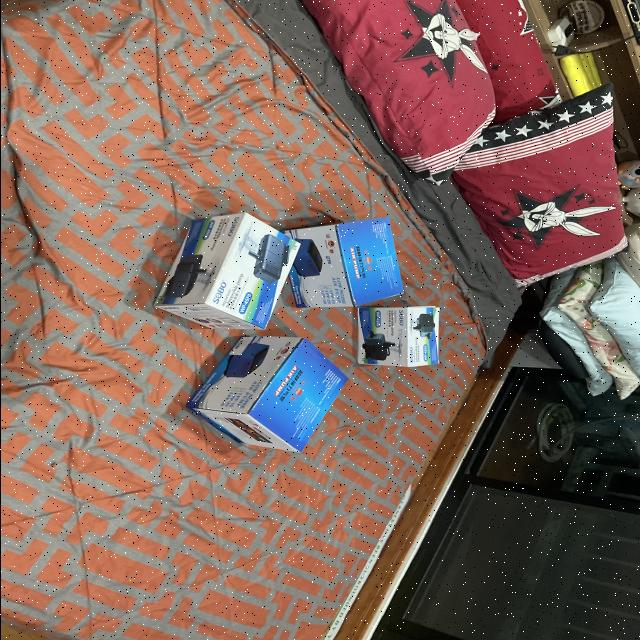SOBO_WP_4200: (146, 204, 304, 342), (346, 300, 448, 378)
YAMANO_LPP_20: (169, 330, 353, 462), (282, 206, 410, 316)
